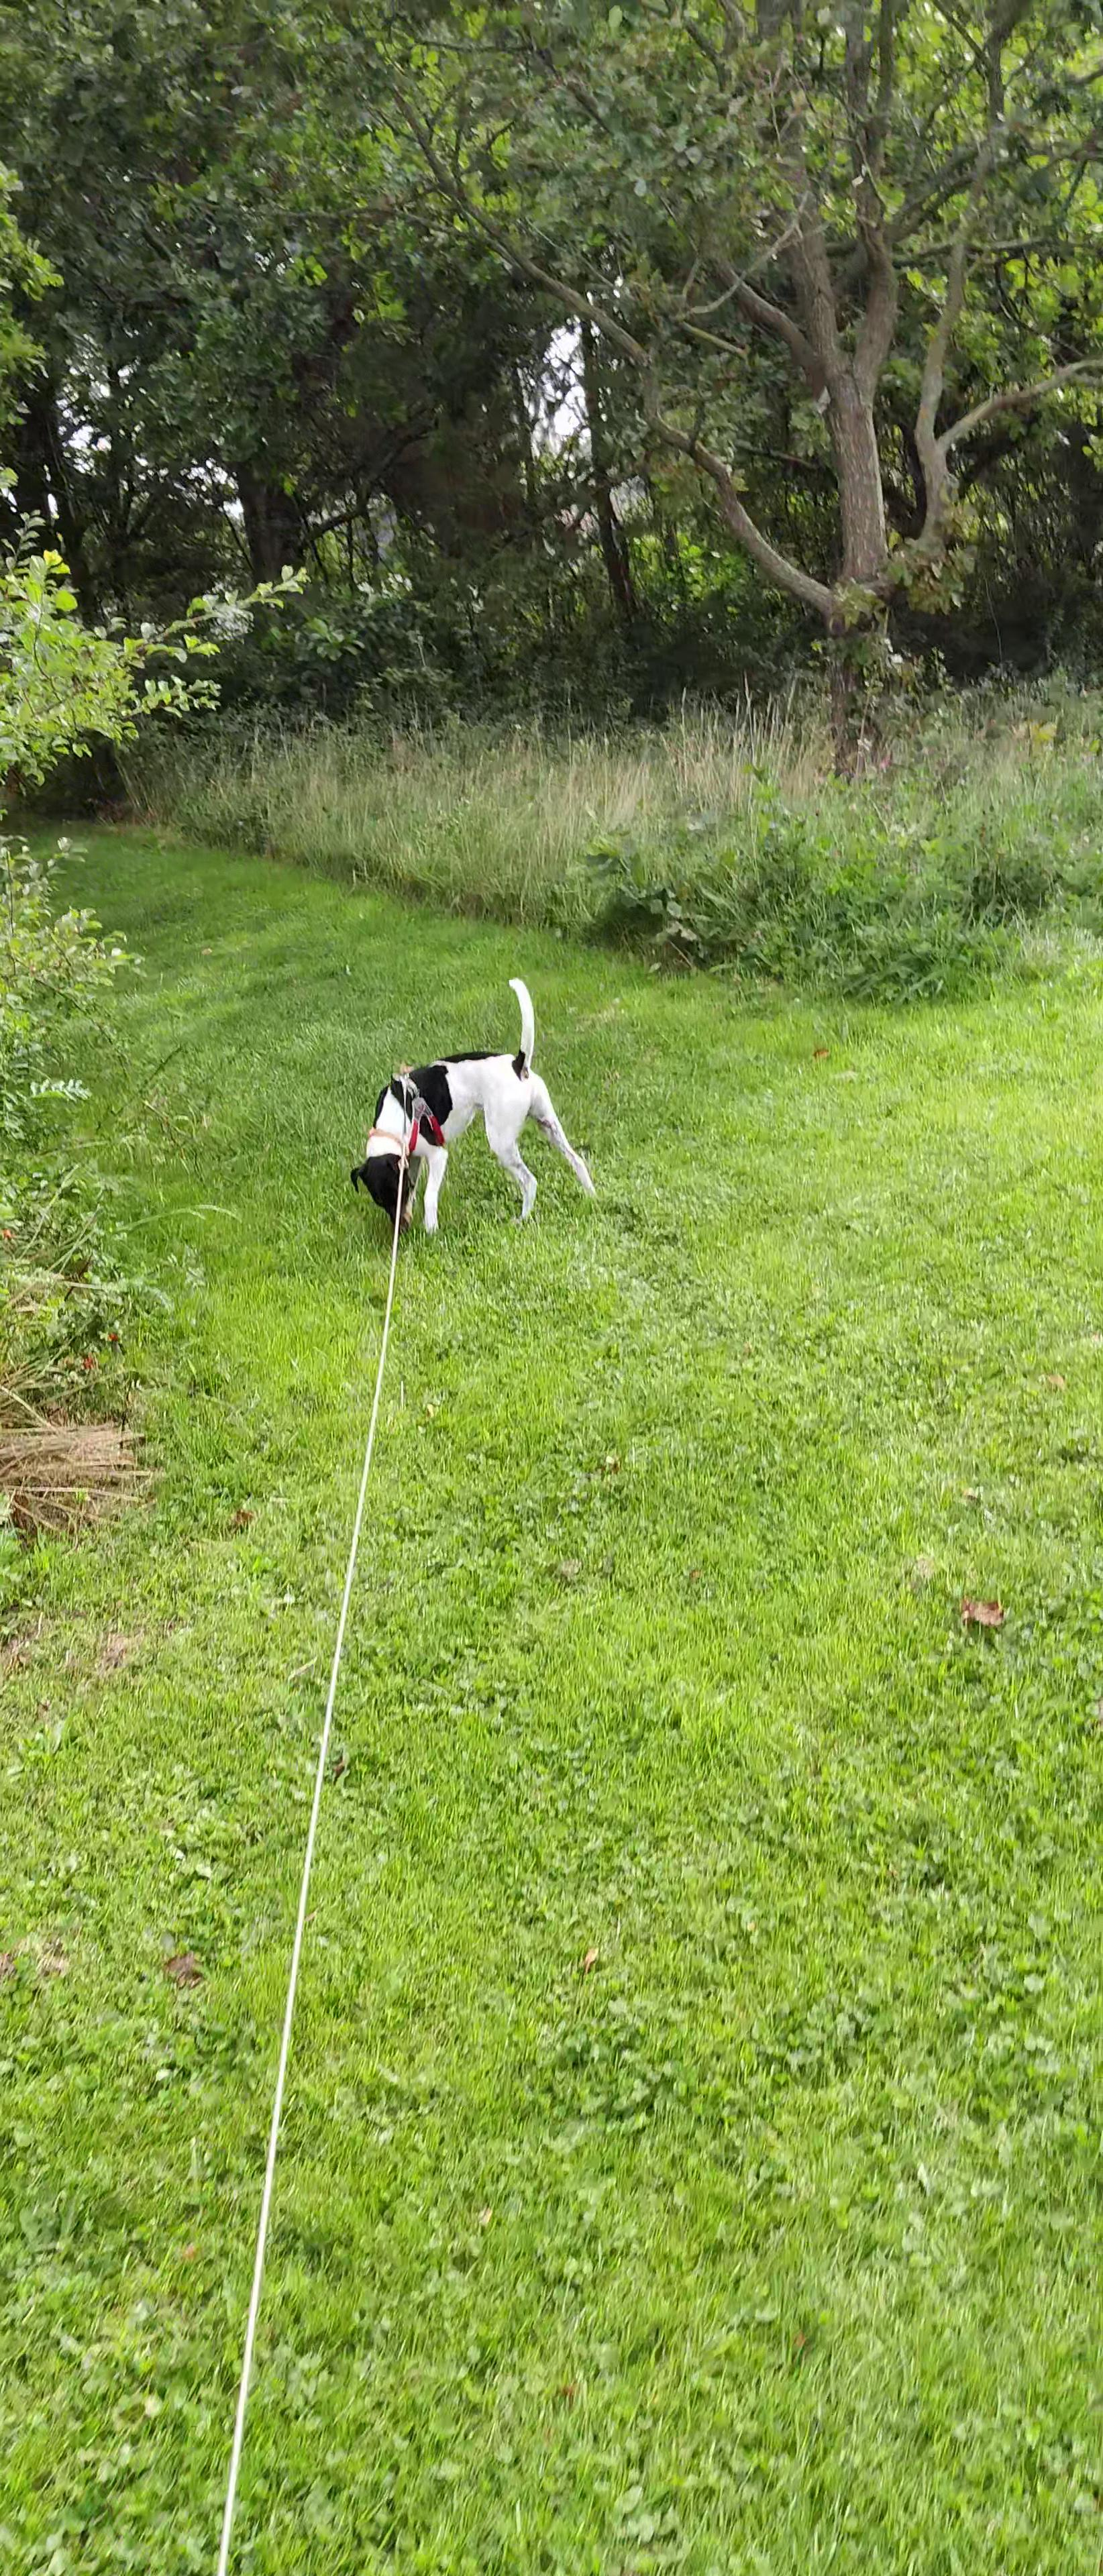Dog: (330, 963, 618, 1249)
